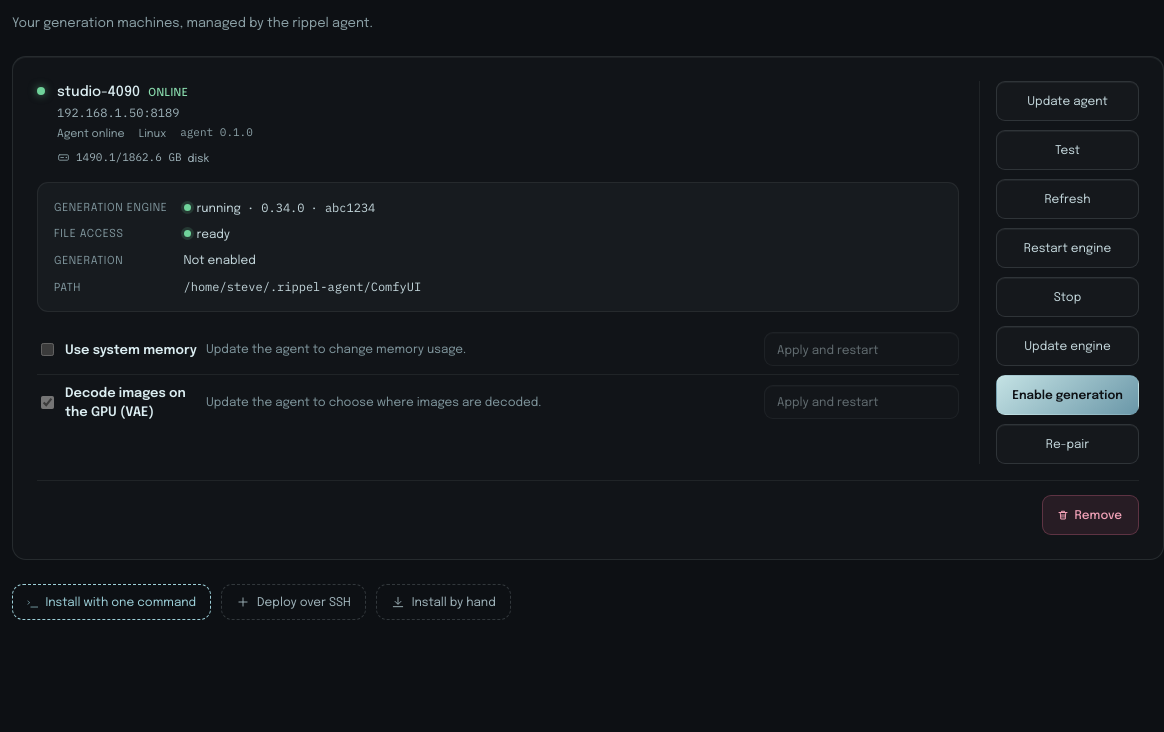
it: DeploymentsSection › marks a failed Test offline immediately and disables agent actions
The width and height of the screenshot is (1164, 732).
Click the button "Test" at (1068, 150), box left=996, top=130, right=1139, bottom=170
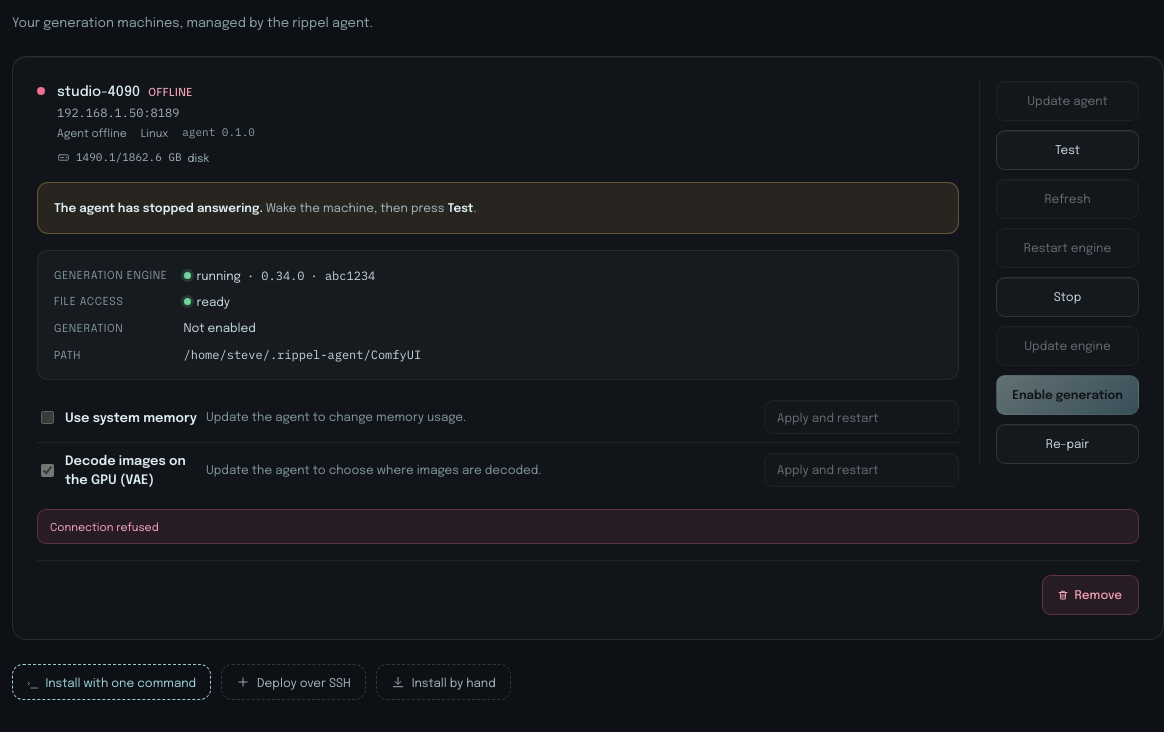
Now the text "offline" is shown, box left=148, top=84, right=193, bottom=100
Now the text "The agent has stopped answering." is shown, box left=54, top=201, right=263, bottom=214
